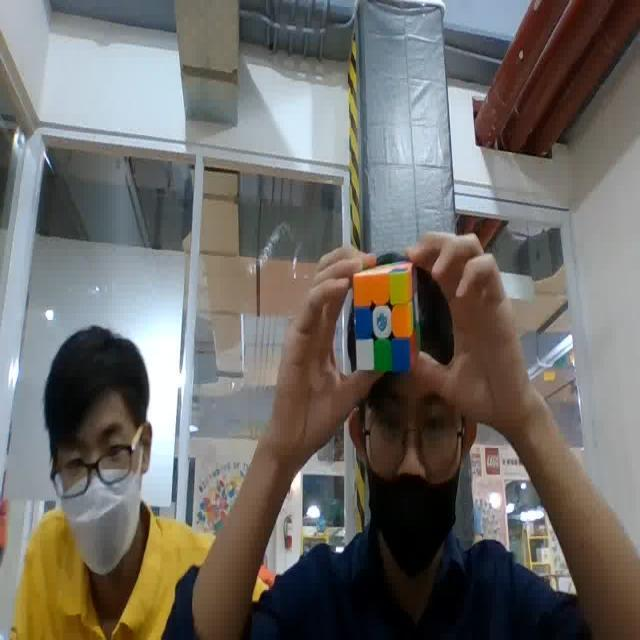Rub: (350, 262, 420, 377)
